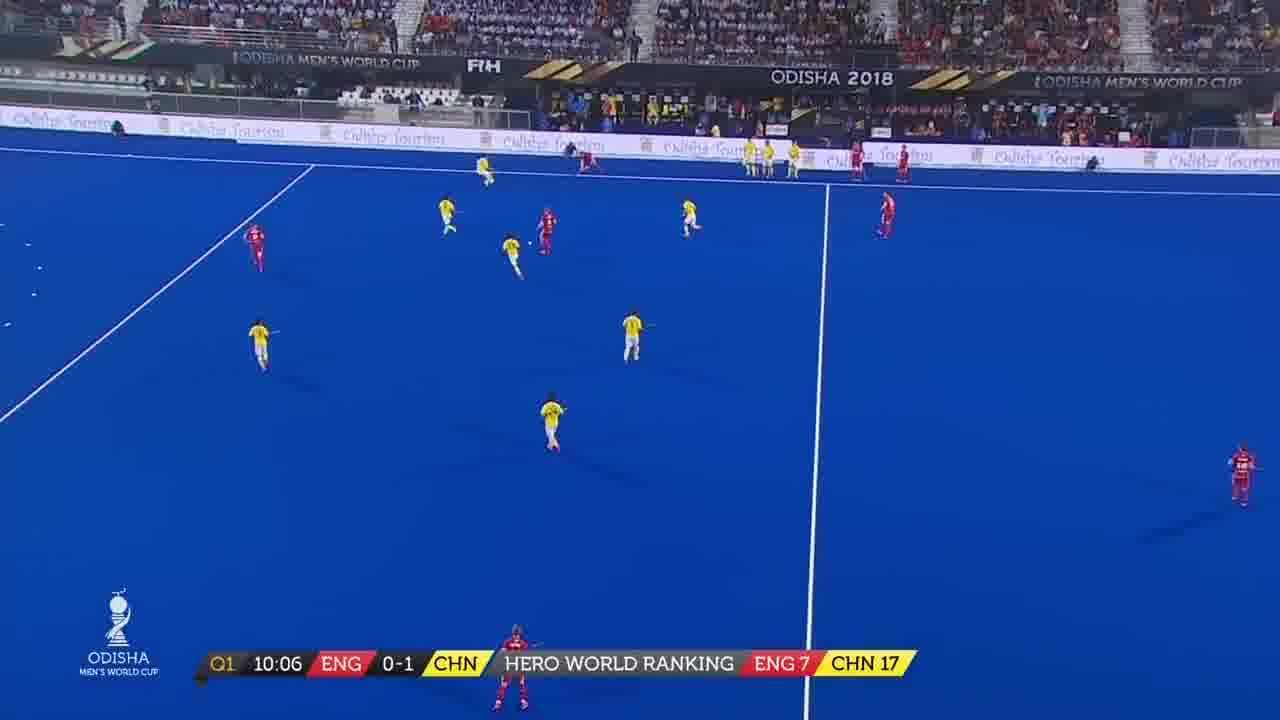ball: (520, 236, 537, 249)
